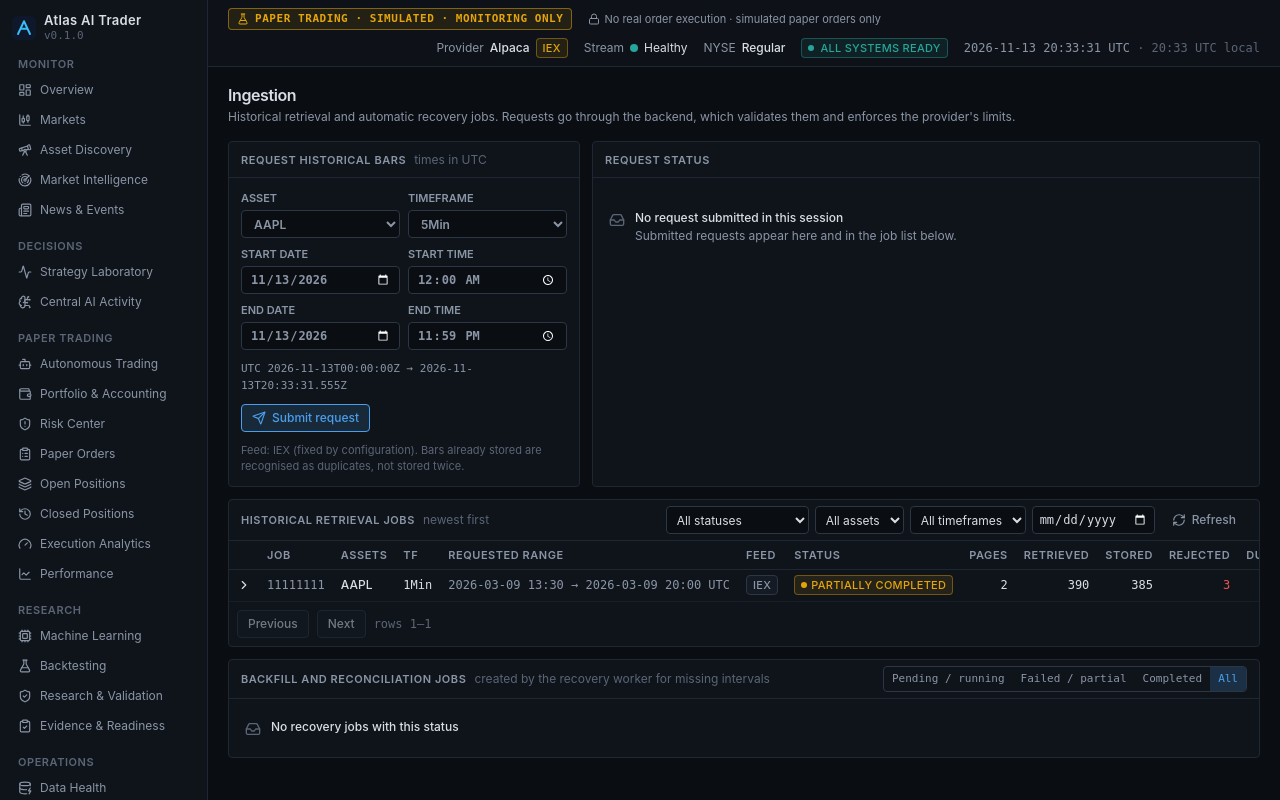
it: Ingestion › lists jobs with their counters and validates and submits requests
Expected: the text "Partially completed" is shown, [794, 575, 953, 595]
Expected: the text "385" is shown, [1097, 569, 1161, 601]
Type "2026-03-09" into the date field labelled "Start date".
click(320, 280); type("2026-03-09")  # box [241, 266, 400, 294]
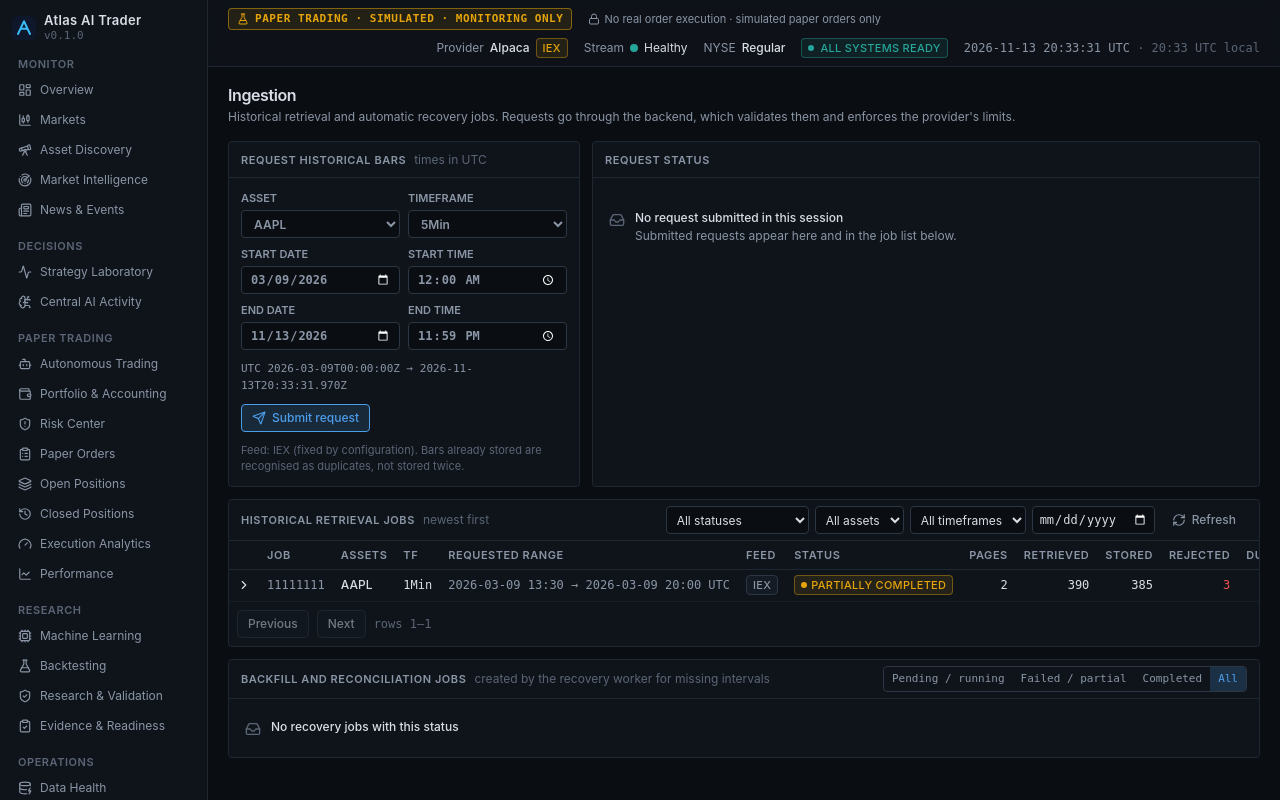
Type "2026-03-08" into the date field labelled "End date".
click(320, 336); type("2026-03-08")  # box [241, 322, 400, 350]
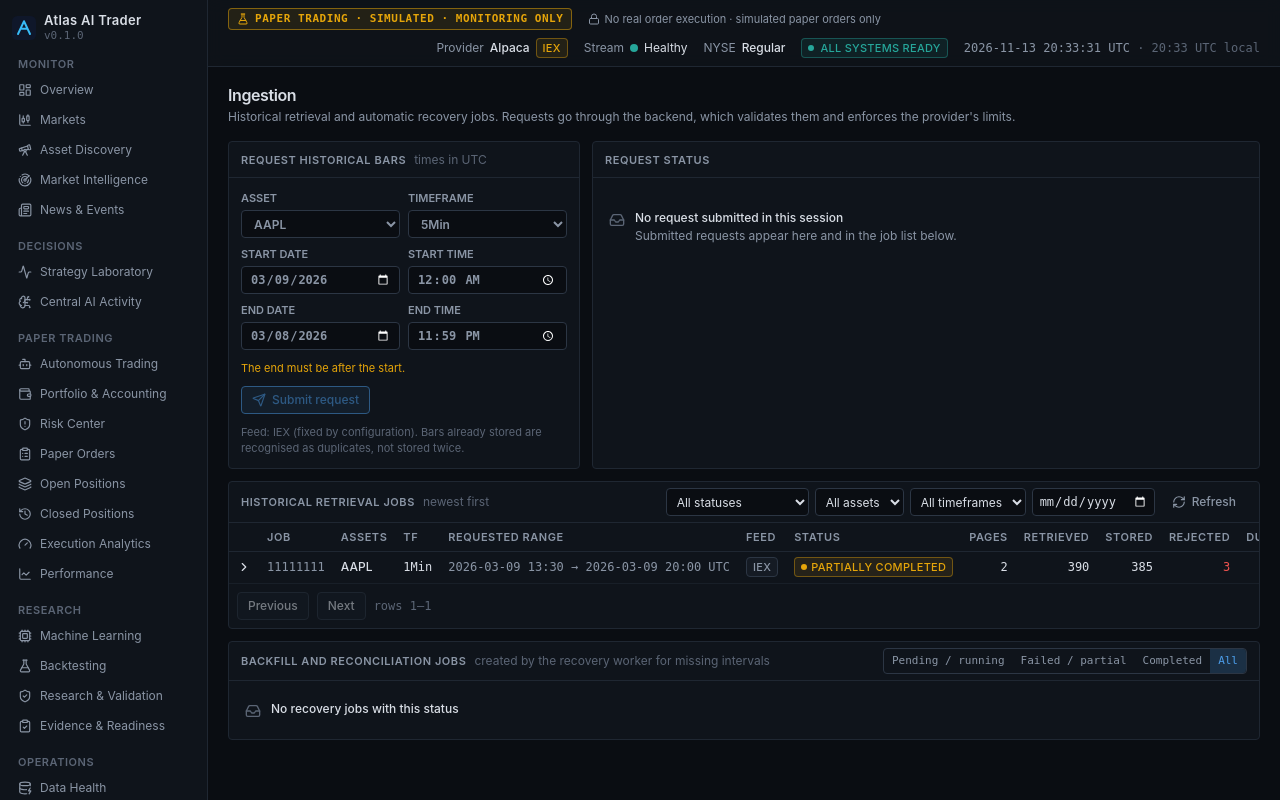
Expected: the text "The end must be after the start." is shown, [241, 361, 405, 375]
Expected: the button "Submit request" is disabled, [241, 386, 370, 414]
Type "2026-03-09" into the date field labelled "End date".
click(320, 336); type("2026-03-09")  # box [241, 322, 400, 350]
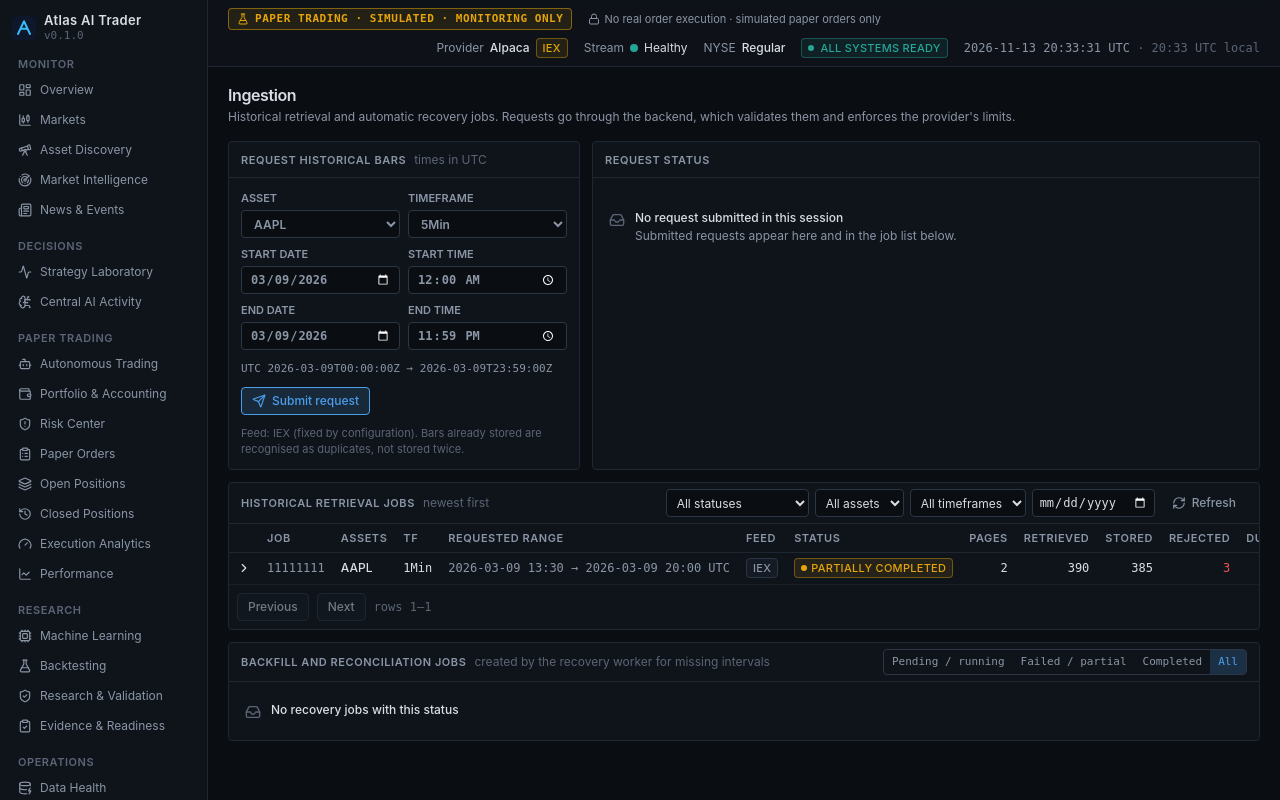
Click the button "Submit request".
click(306, 401)  # box [241, 387, 370, 415]
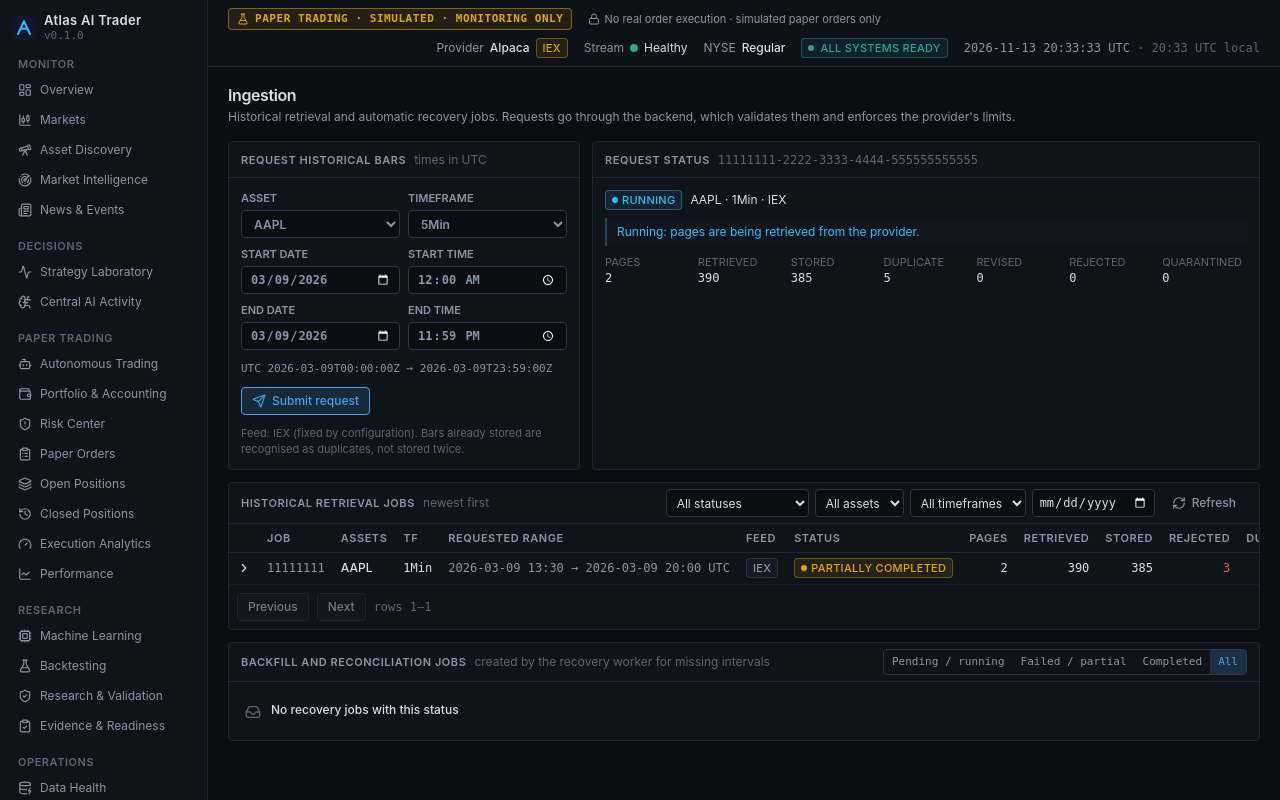
Expected: the text "Running: pages are being retrieved from the provider." is shown, [605, 218, 1247, 246]
